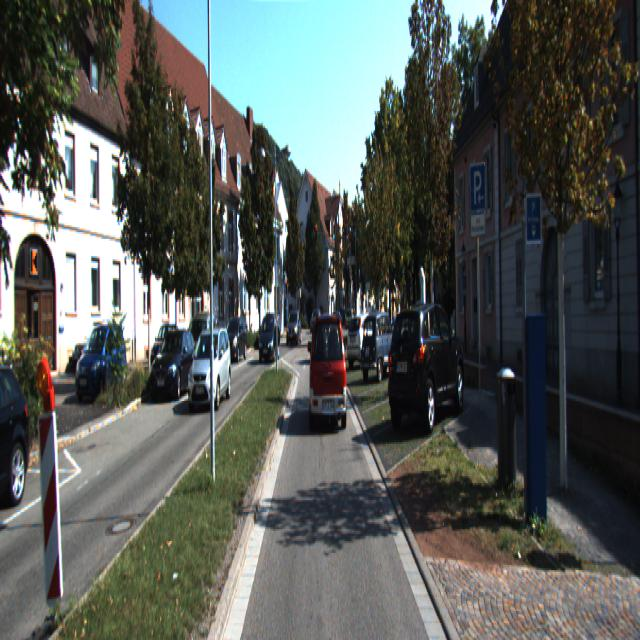Car: (386, 298, 466, 434), (0, 355, 33, 507), (310, 312, 348, 432), (74, 321, 127, 399), (187, 322, 232, 410), (150, 328, 198, 404), (360, 308, 404, 383), (74, 318, 126, 373), (183, 311, 216, 384), (346, 312, 385, 366), (221, 314, 246, 362), (260, 314, 280, 364), (257, 316, 279, 351), (286, 310, 302, 346)
